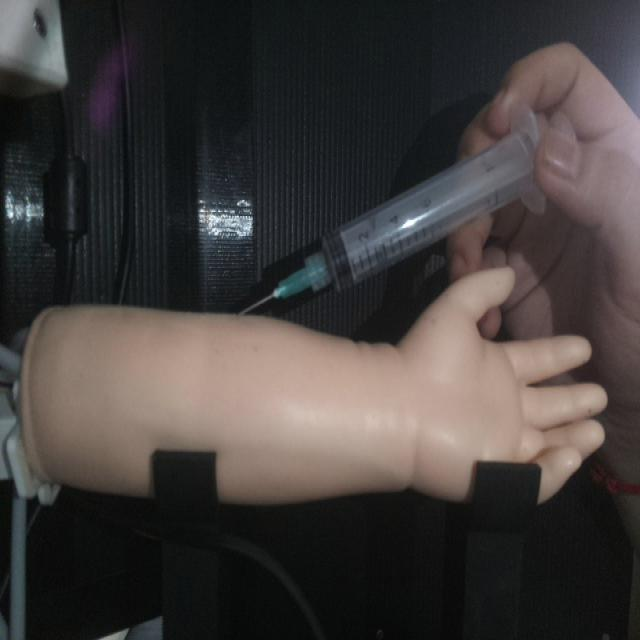Above 30 degrees: (235, 99, 548, 317)
